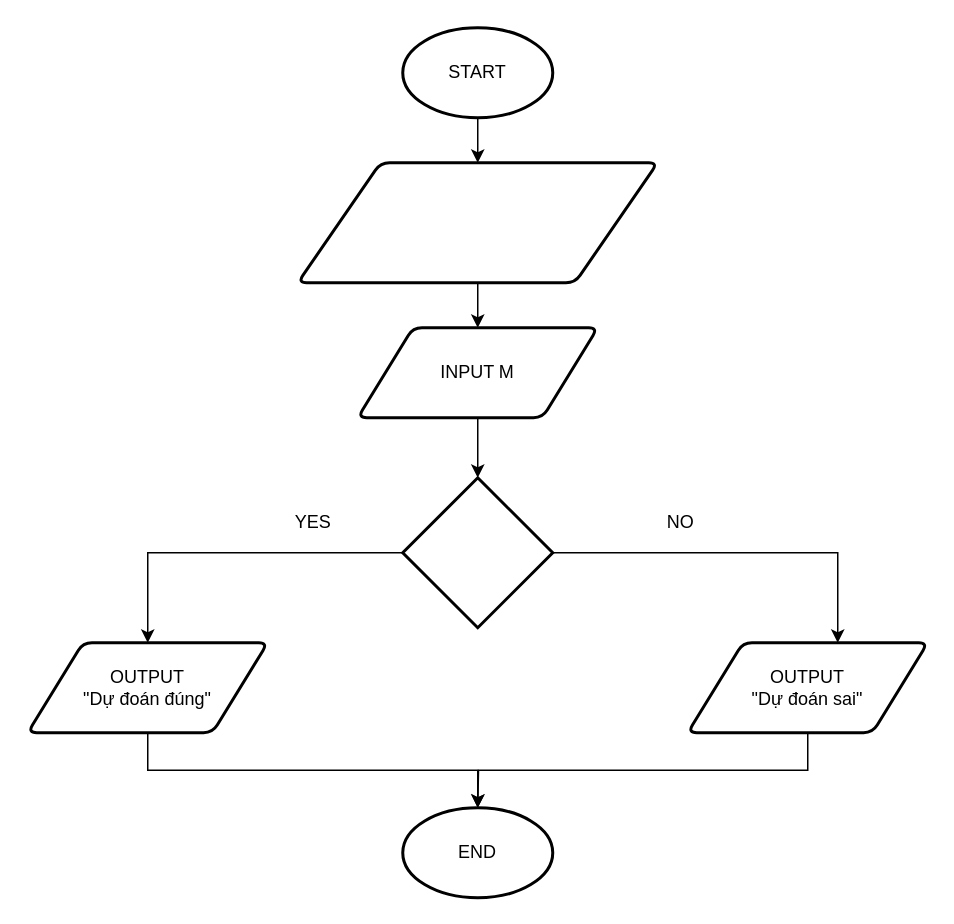
The diagram is 954 pixels wide and 924 high, and some of its shapes have lost their labels. Here are the shapes that lost their labels. From the top down, the centre of each, then its label:
At [477,222]: "INPUT N là số ngẫu nhiên trong khoảng 0-9".
At [477,552]: "IF N==M".
